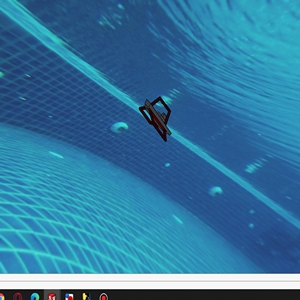submarine: (143, 96, 170, 137)
